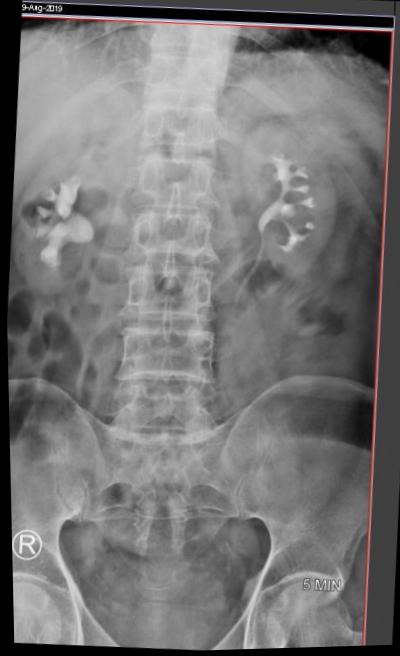left kidney: (244, 98, 379, 285)
right kidney: (4, 135, 120, 310)
vertebrae: (139, 141, 241, 211)
